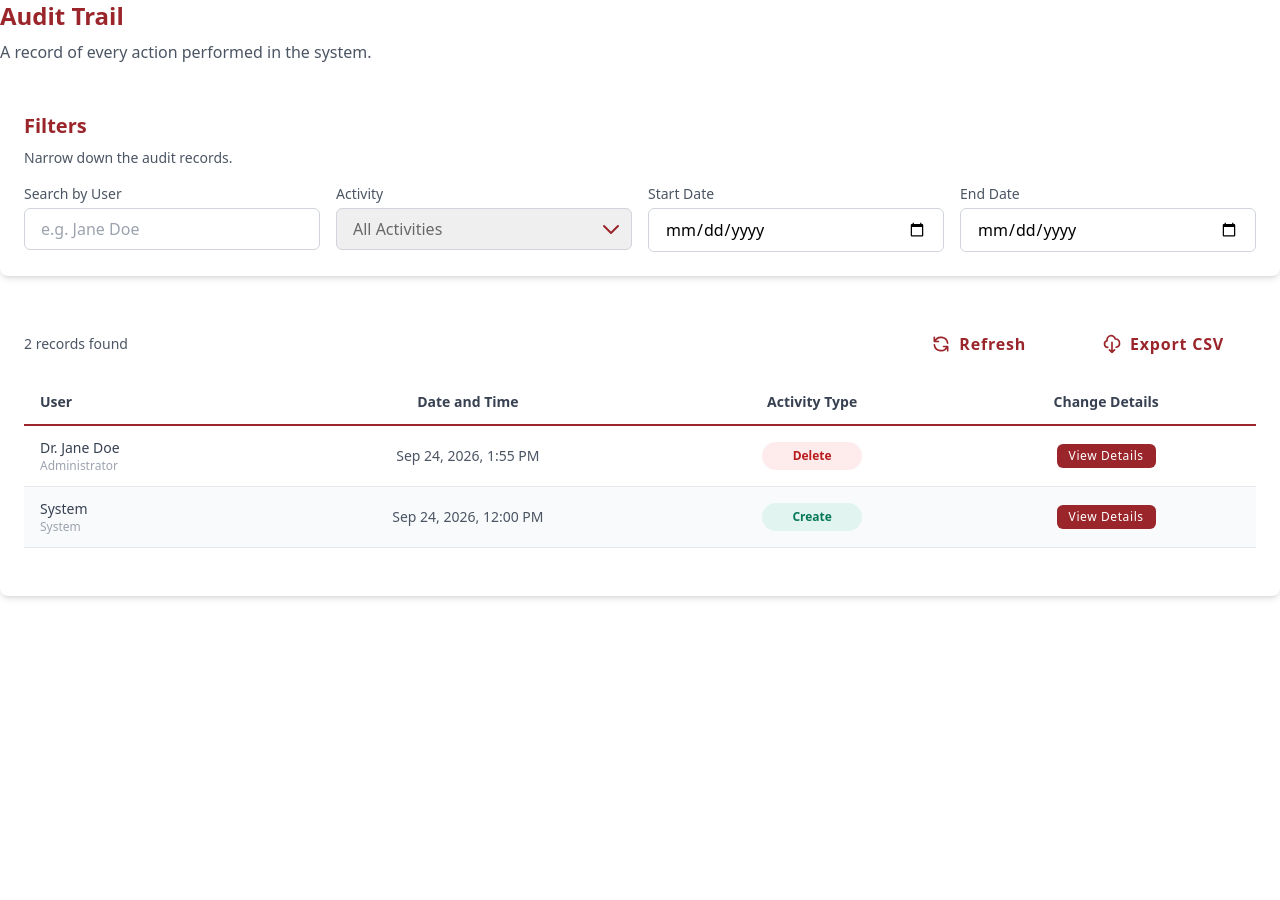
audit trail › server-side filters and export › ignores a detail response that arrives after another record was opened
This screenshot has width=1280, height=900.
Click the button "View Details" in the row of "Dr. Jane Doe": point(1106, 456) [1057, 444, 1156, 468]
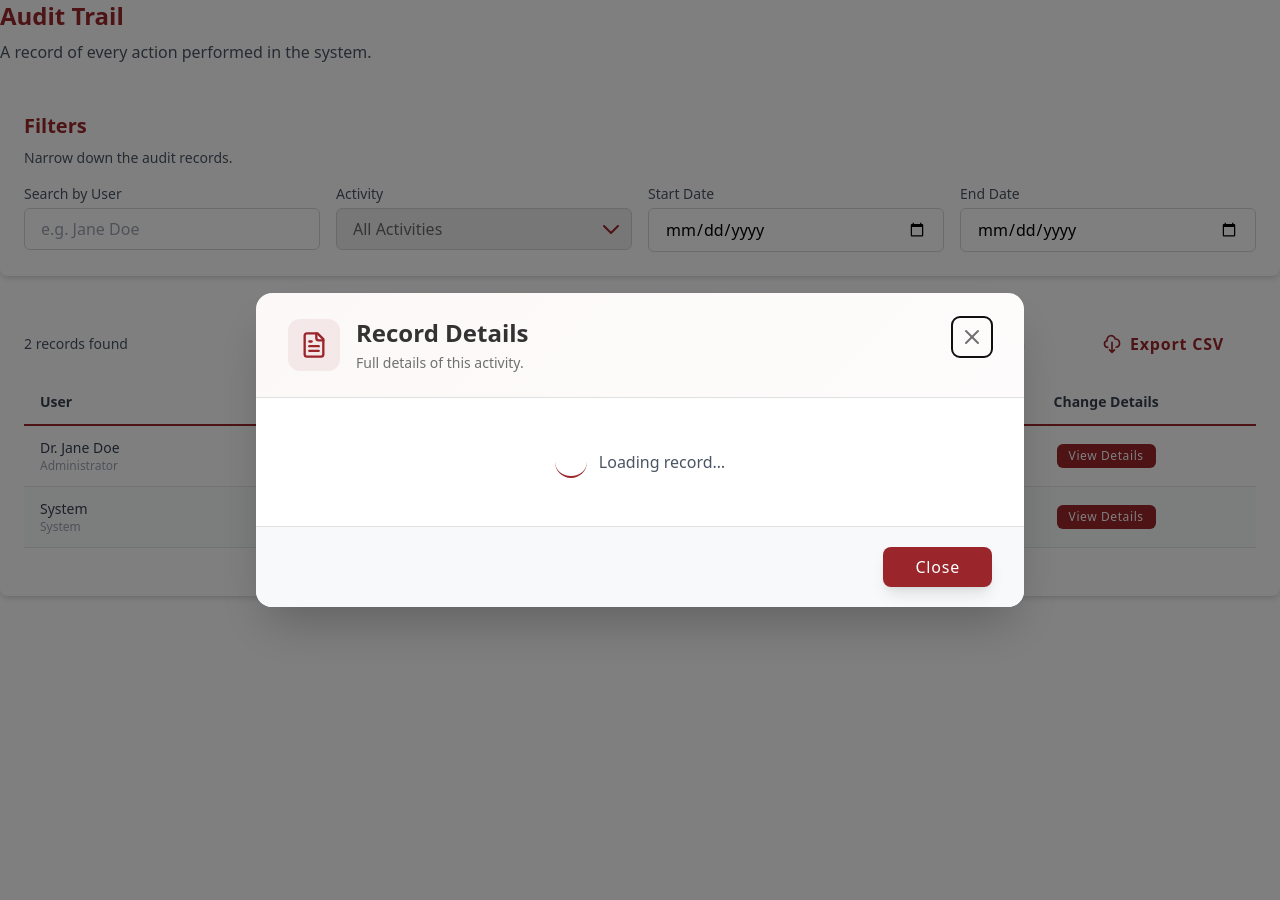
Click the button "Close": point(938, 567) [883, 547, 992, 587]
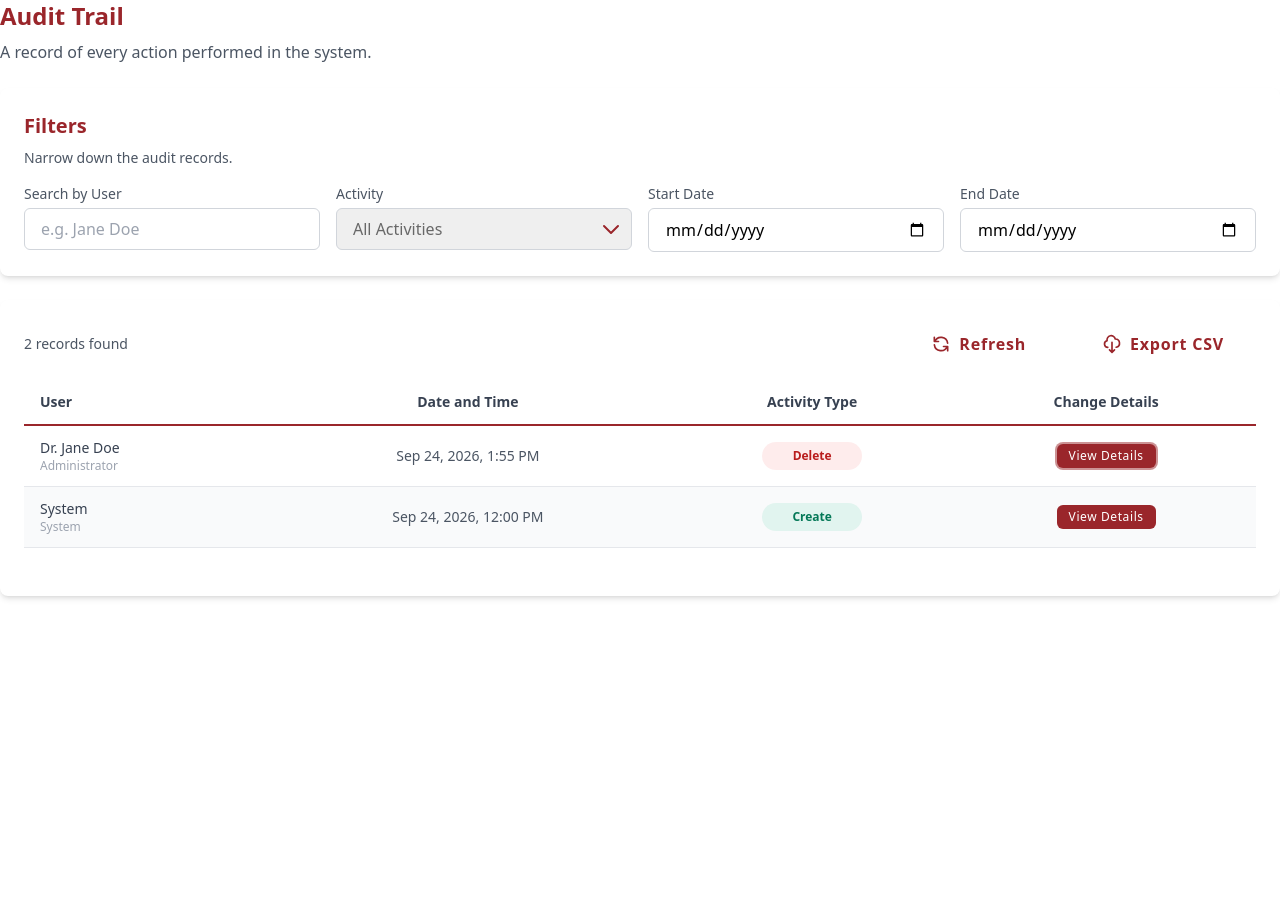
Click the button "View Details" in the row of "Sep 24, 2026, 12:00 PM": point(1106, 517) [1057, 505, 1156, 529]
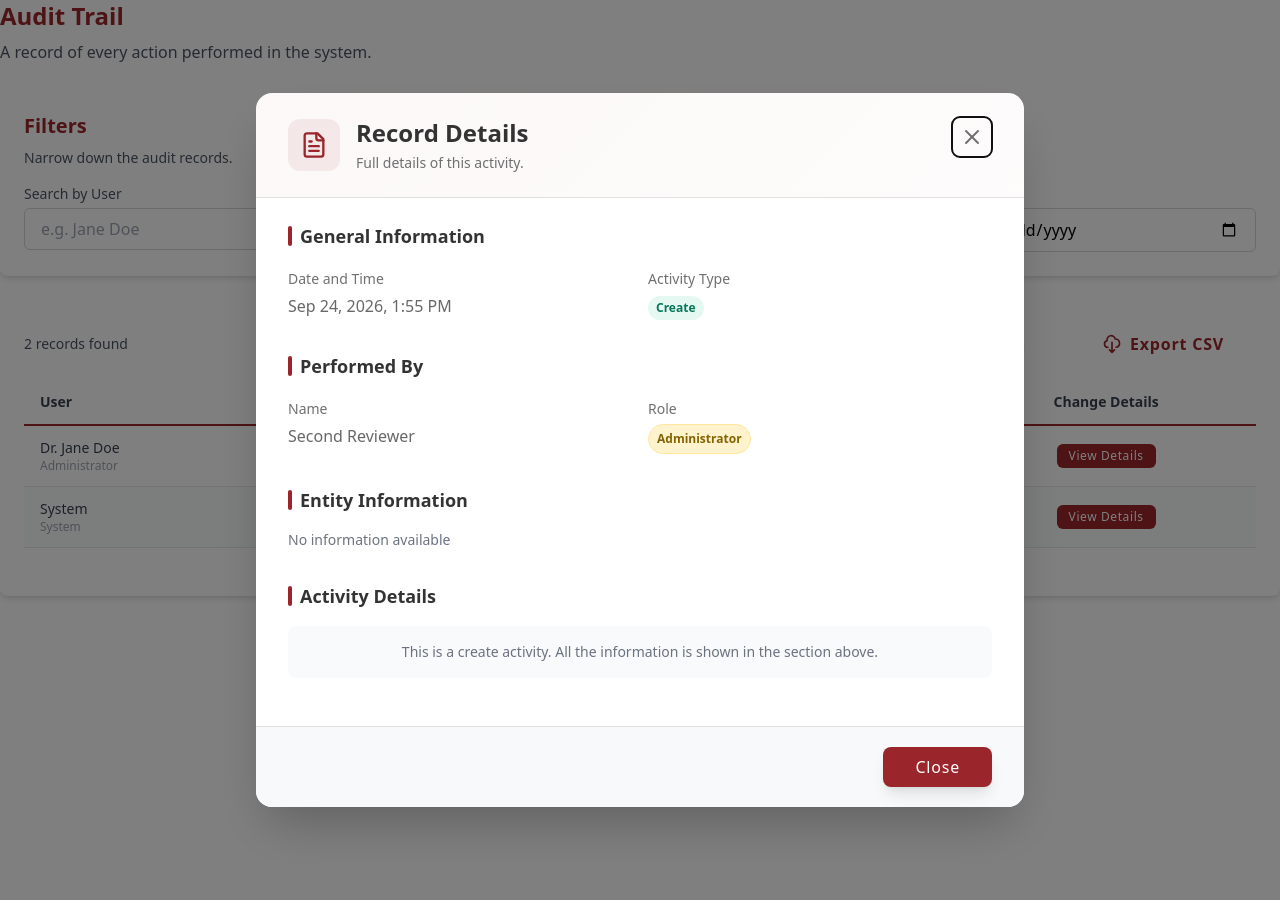
Expected: the text "Second Reviewer" is shown, [288, 425, 415, 447]
